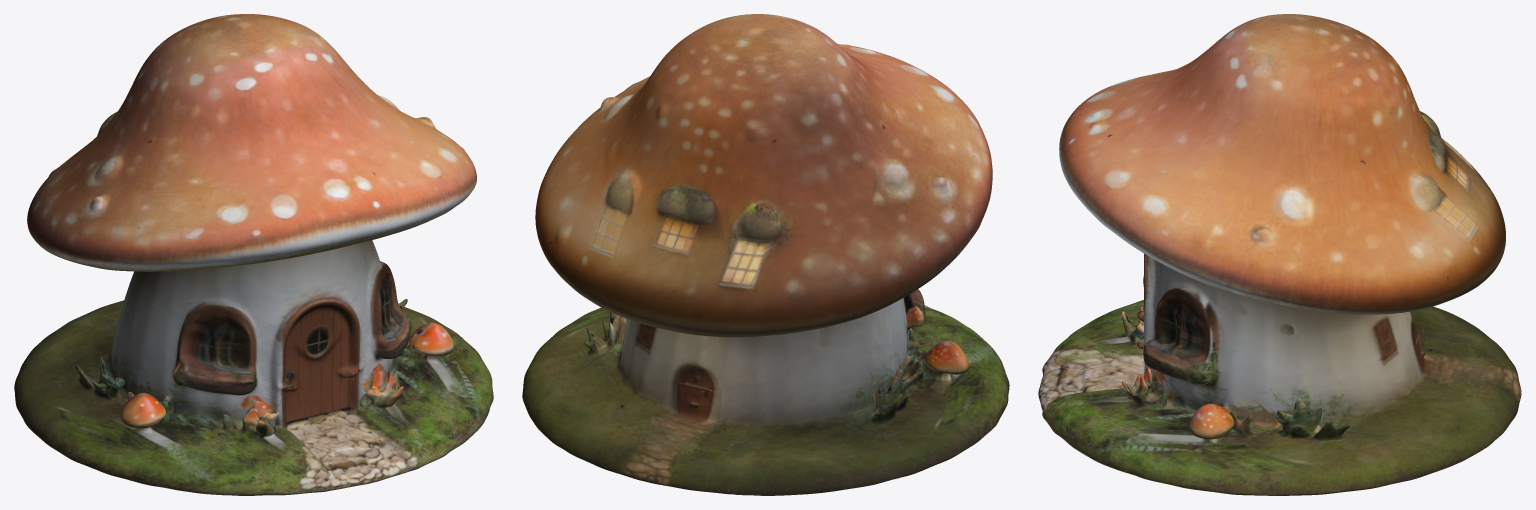
The model's file is mushroom-house.glb.
The picture shows the model from 3 angles, left to right: view 1: azimuth 30°, elevation 25°; view 2: azimuth 150°, elevation 25°; view 3: azimuth 270°, elevation 25°; orthographic projection.
Bounding box in the file's own units: 2 × 1.7 × 2.
Materials: 1 (1 with a texture image).
